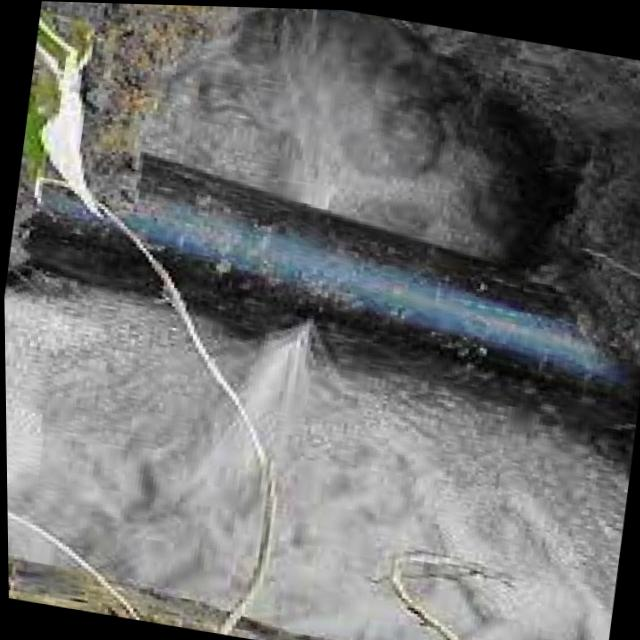leak: (235, 323, 312, 619)
